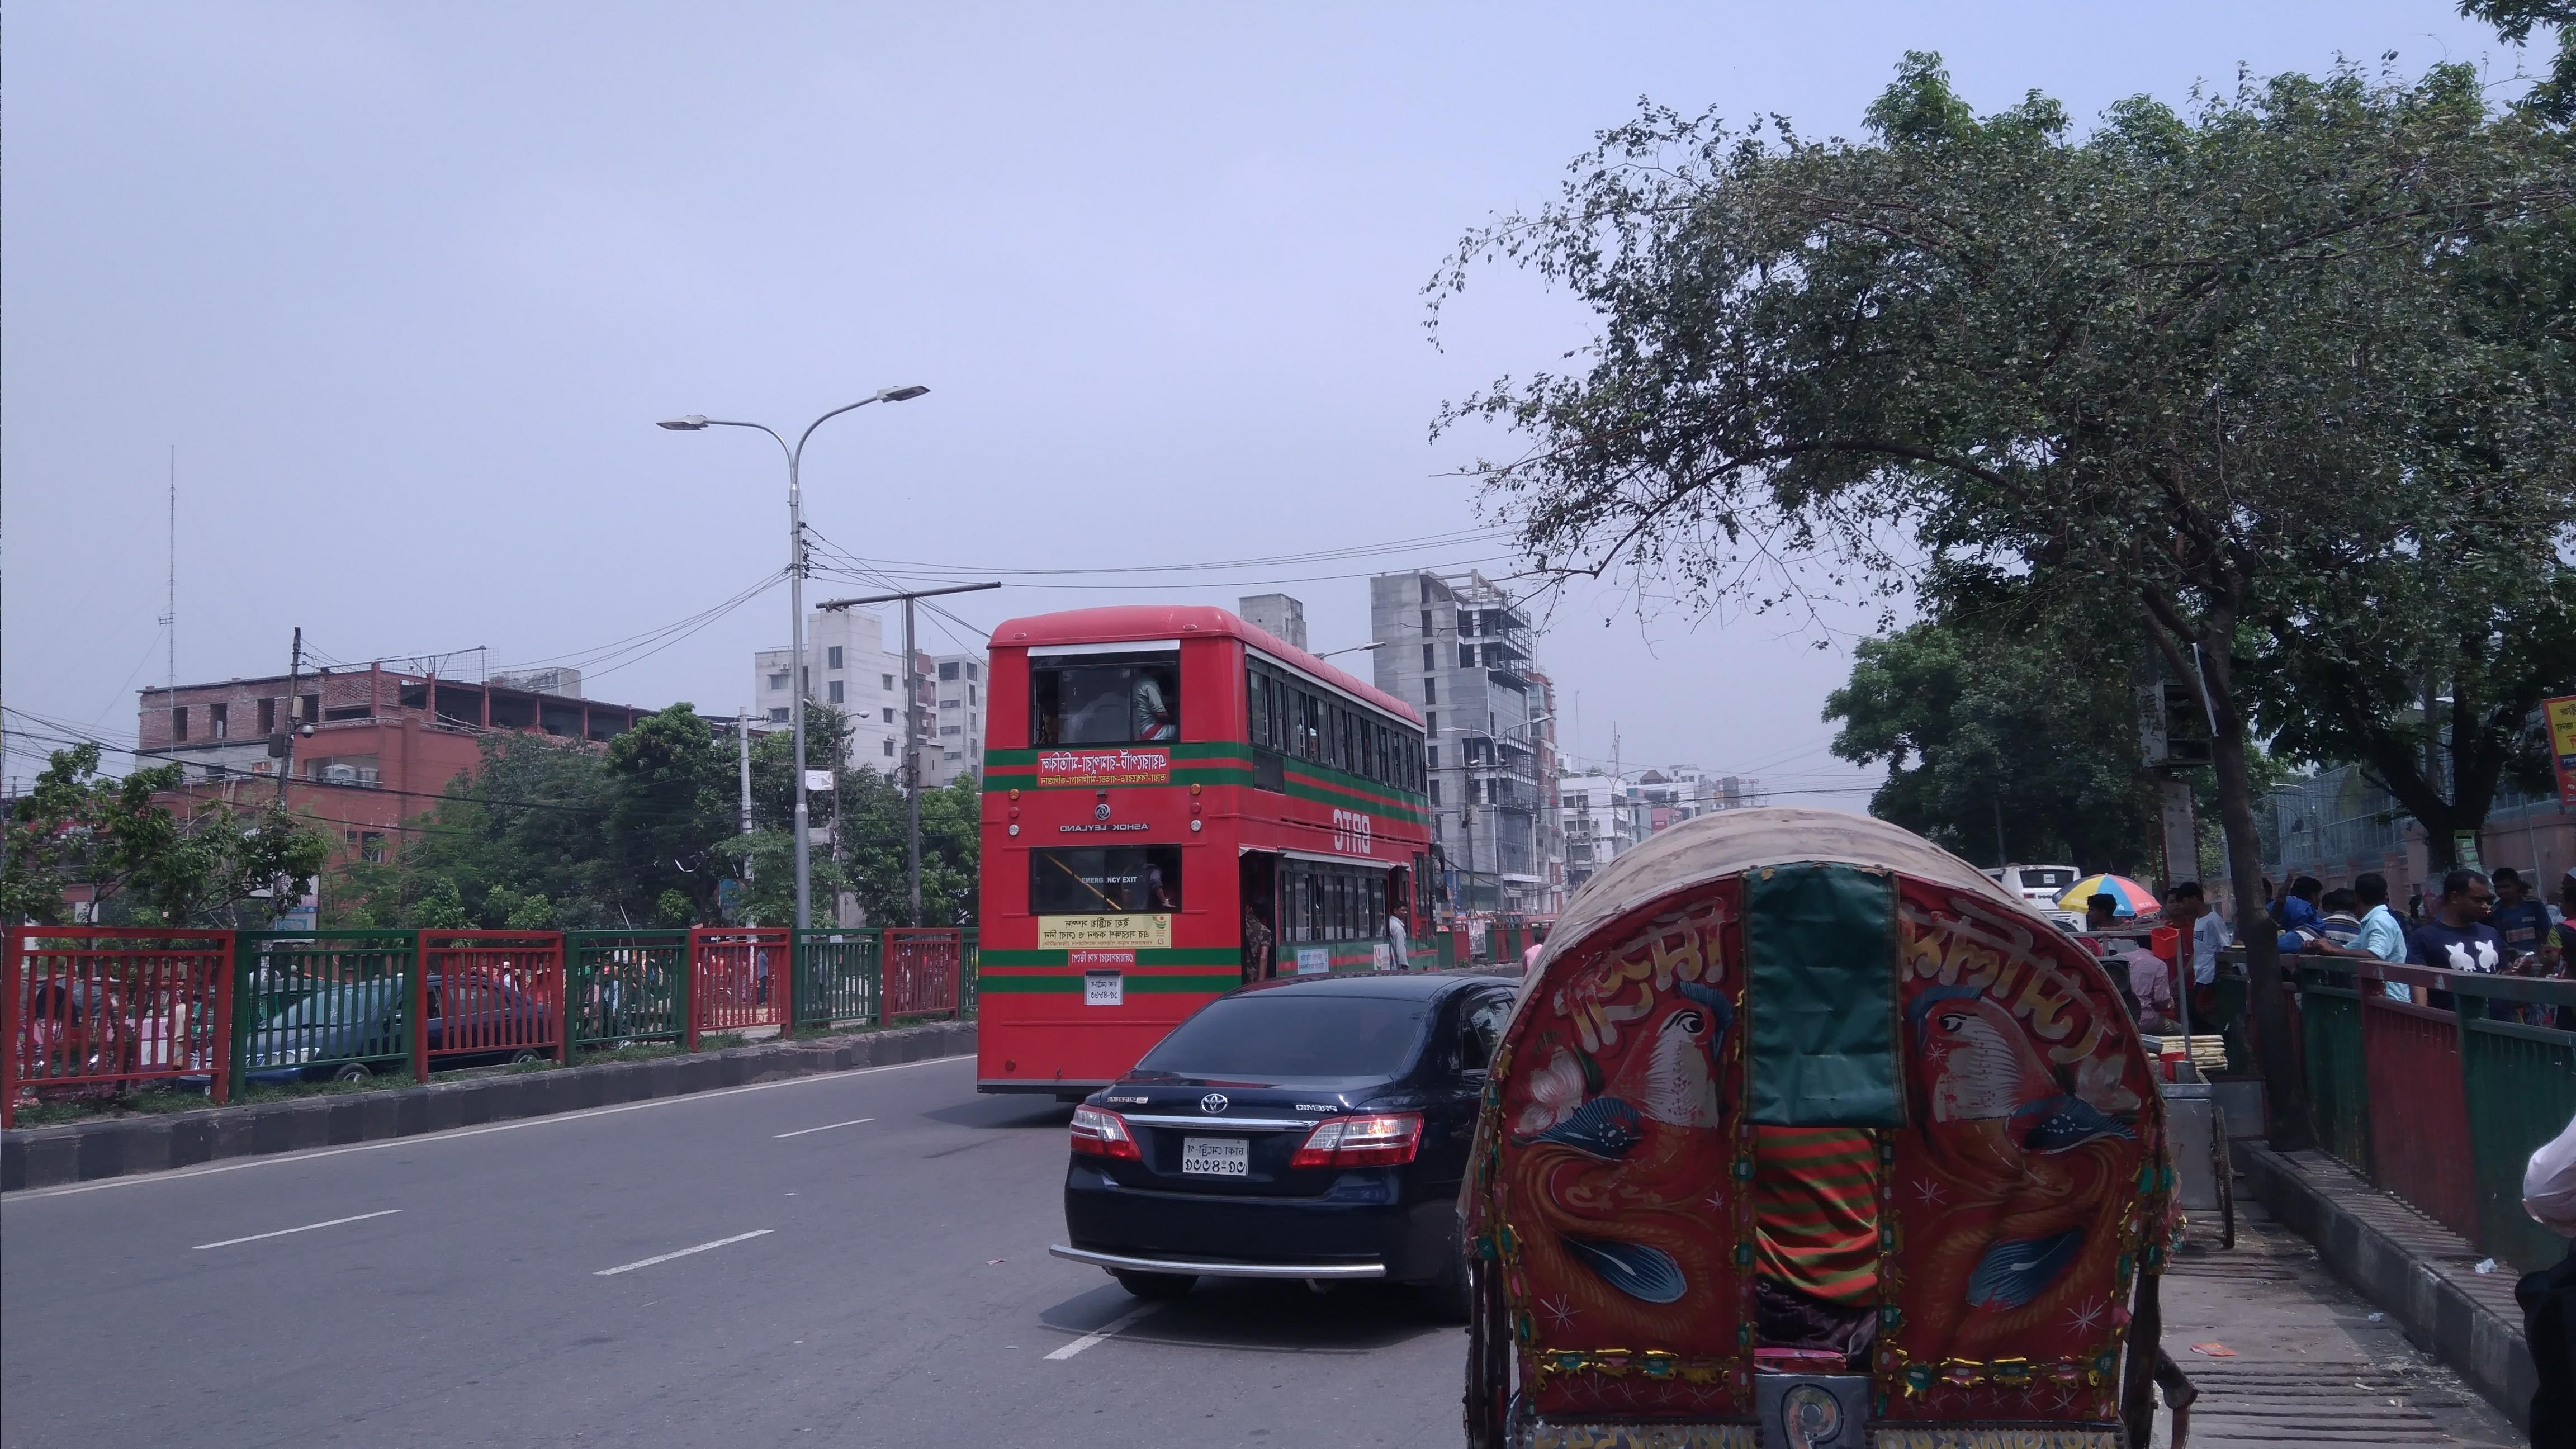Rickshaw: (1461, 794, 2208, 1445)
